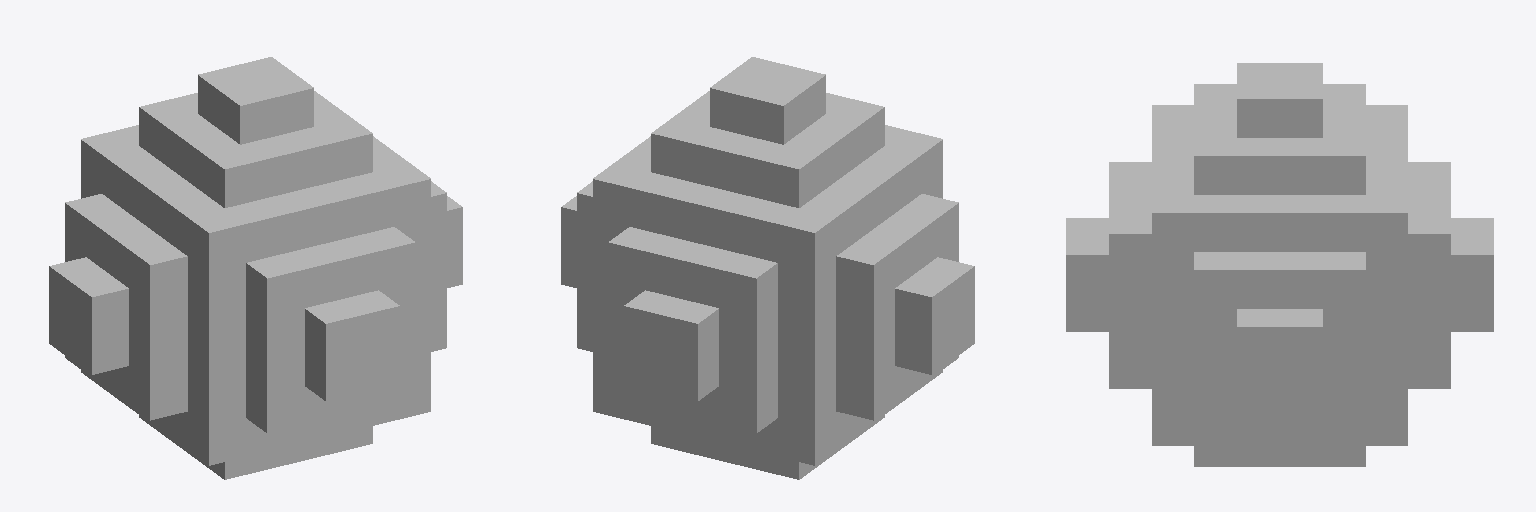
Rendered from Street light.obj.
The picture shows the model from 3 angles: view 1: azimuth 30°, elevation 25°; view 2: azimuth 150°, elevation 25°; view 3: azimuth 270°, elevation 25°; orthographic projection.
Visible parts, largest first — view 1: object 1; view 2: object 1; view 3: object 1.
Boxes of the visible parts, x1=… form: object 1: x1=49, y1=57, x2=462, y2=479; object 1: x1=561, y1=57, x2=974, y2=479; object 1: x1=1066, y1=63, x2=1493, y2=466.
Bounding box in the file's own units: 1 × 0.9 × 1.